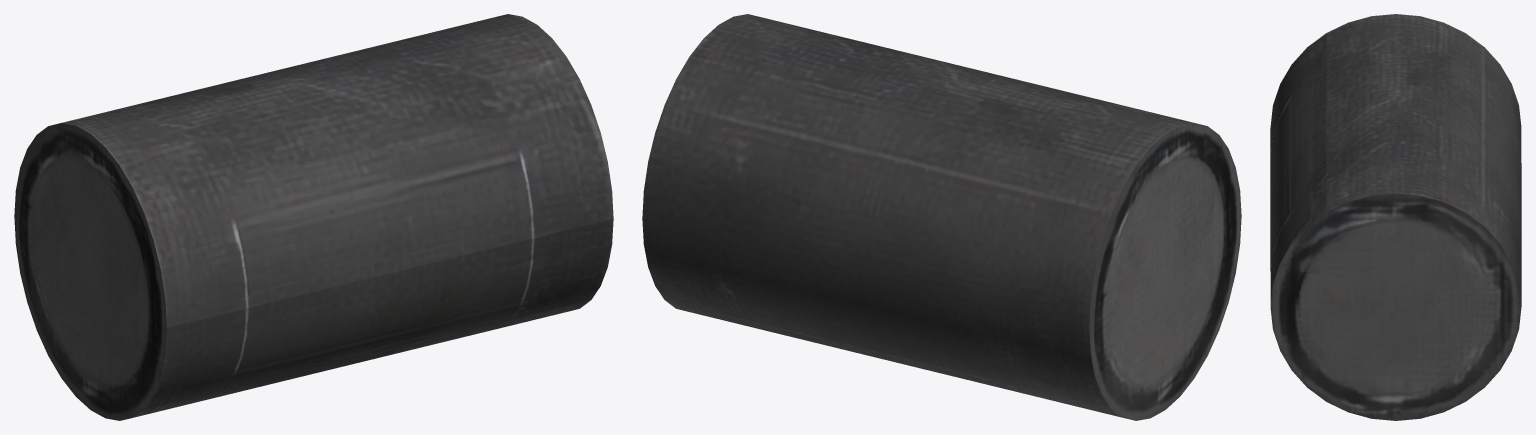
Rendered from shaft__center_hub.glb.
3 renders of one model, left to right at view 1: azimuth 30°, elevation 25°; view 2: azimuth 150°, elevation 25°; view 3: azimuth 270°, elevation 25°, orthographic. The views are drawn at different scales.
Parts seen in each view (by area): view 1: world; view 2: world; view 3: world.
Boxes of the visible parts, x1,y1,x2,y2 form: world: (14, 14, 613, 420); world: (642, 14, 1241, 420); world: (1270, 14, 1521, 420).
Bounding box in the file's own units: 0.044 × 0.026 × 0.026.
Materials: 1 (1 with a texture image).
